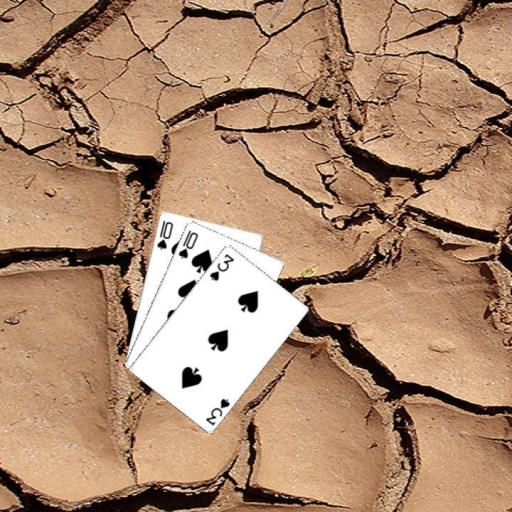10S: (175, 226, 199, 260), (154, 217, 174, 251)
3S: (207, 251, 236, 283), (203, 395, 231, 427)
